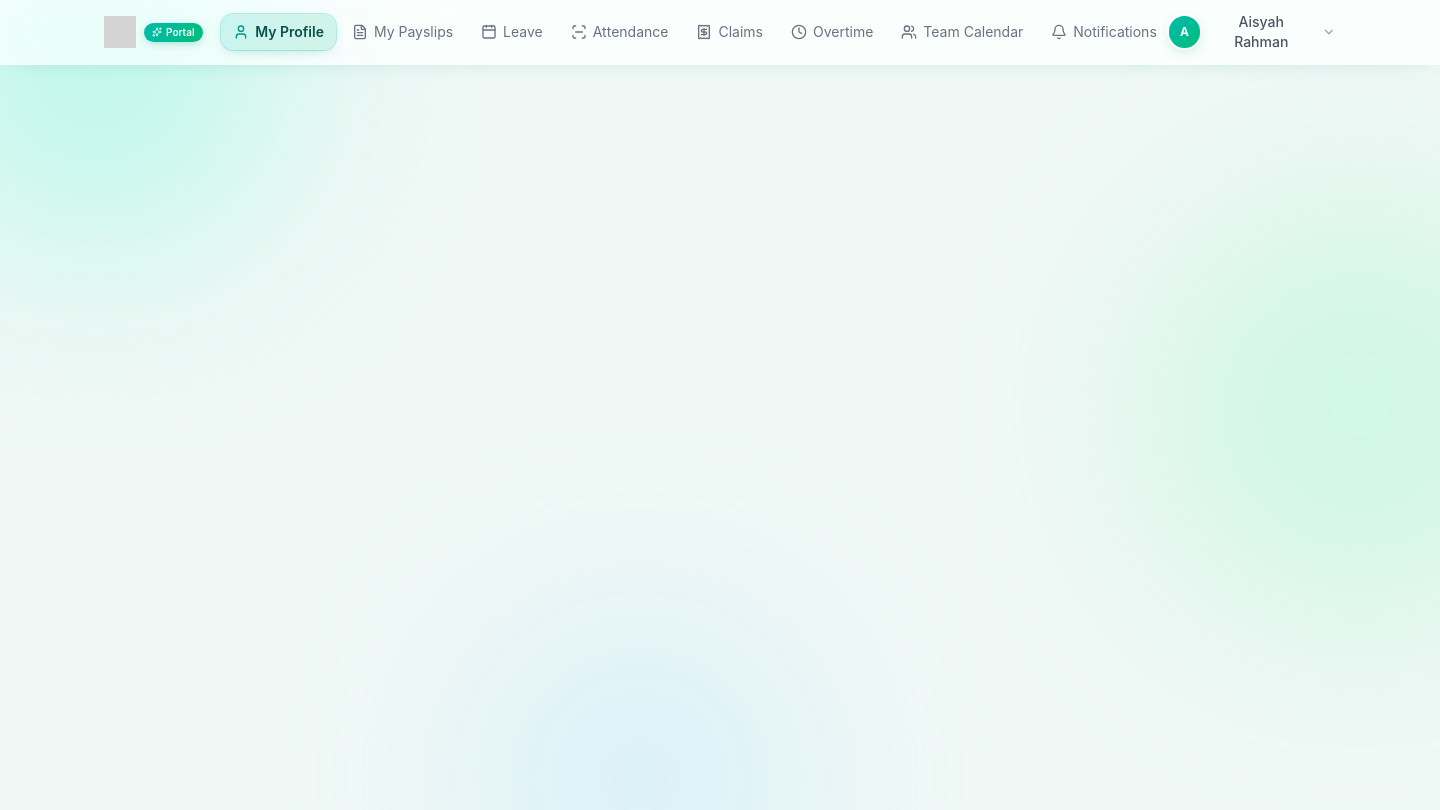
Portal header › shows no console link to a sole-role employee
Click the button "A Aisyah Rahman": (1252, 32) [1169, 12, 1336, 52]
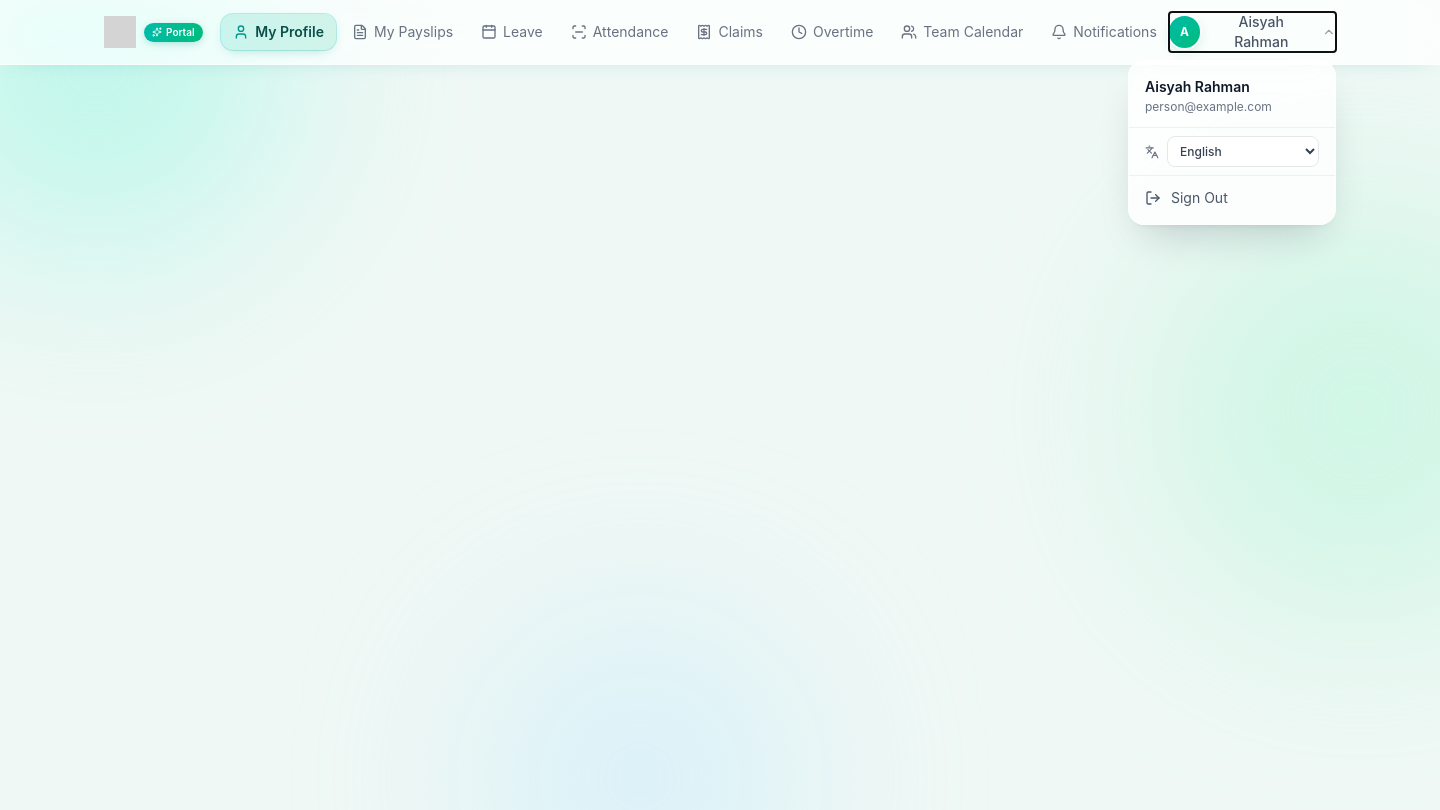
Now the button "Sign Out" is shown, box [1129, 176, 1335, 220]
